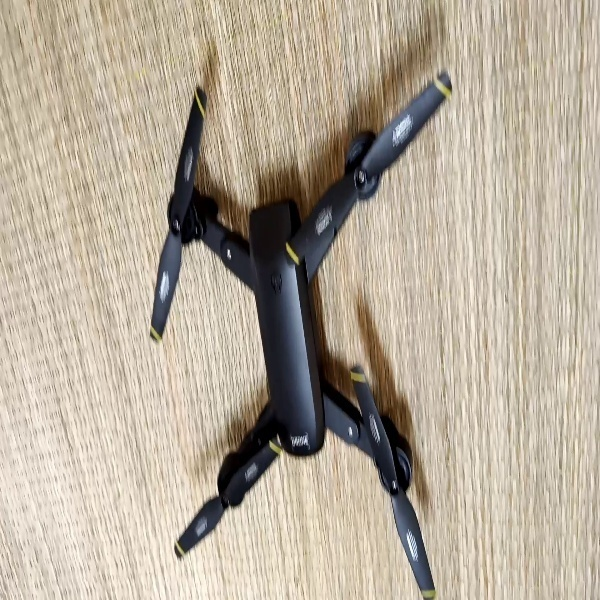drone: (147, 59, 460, 600)
